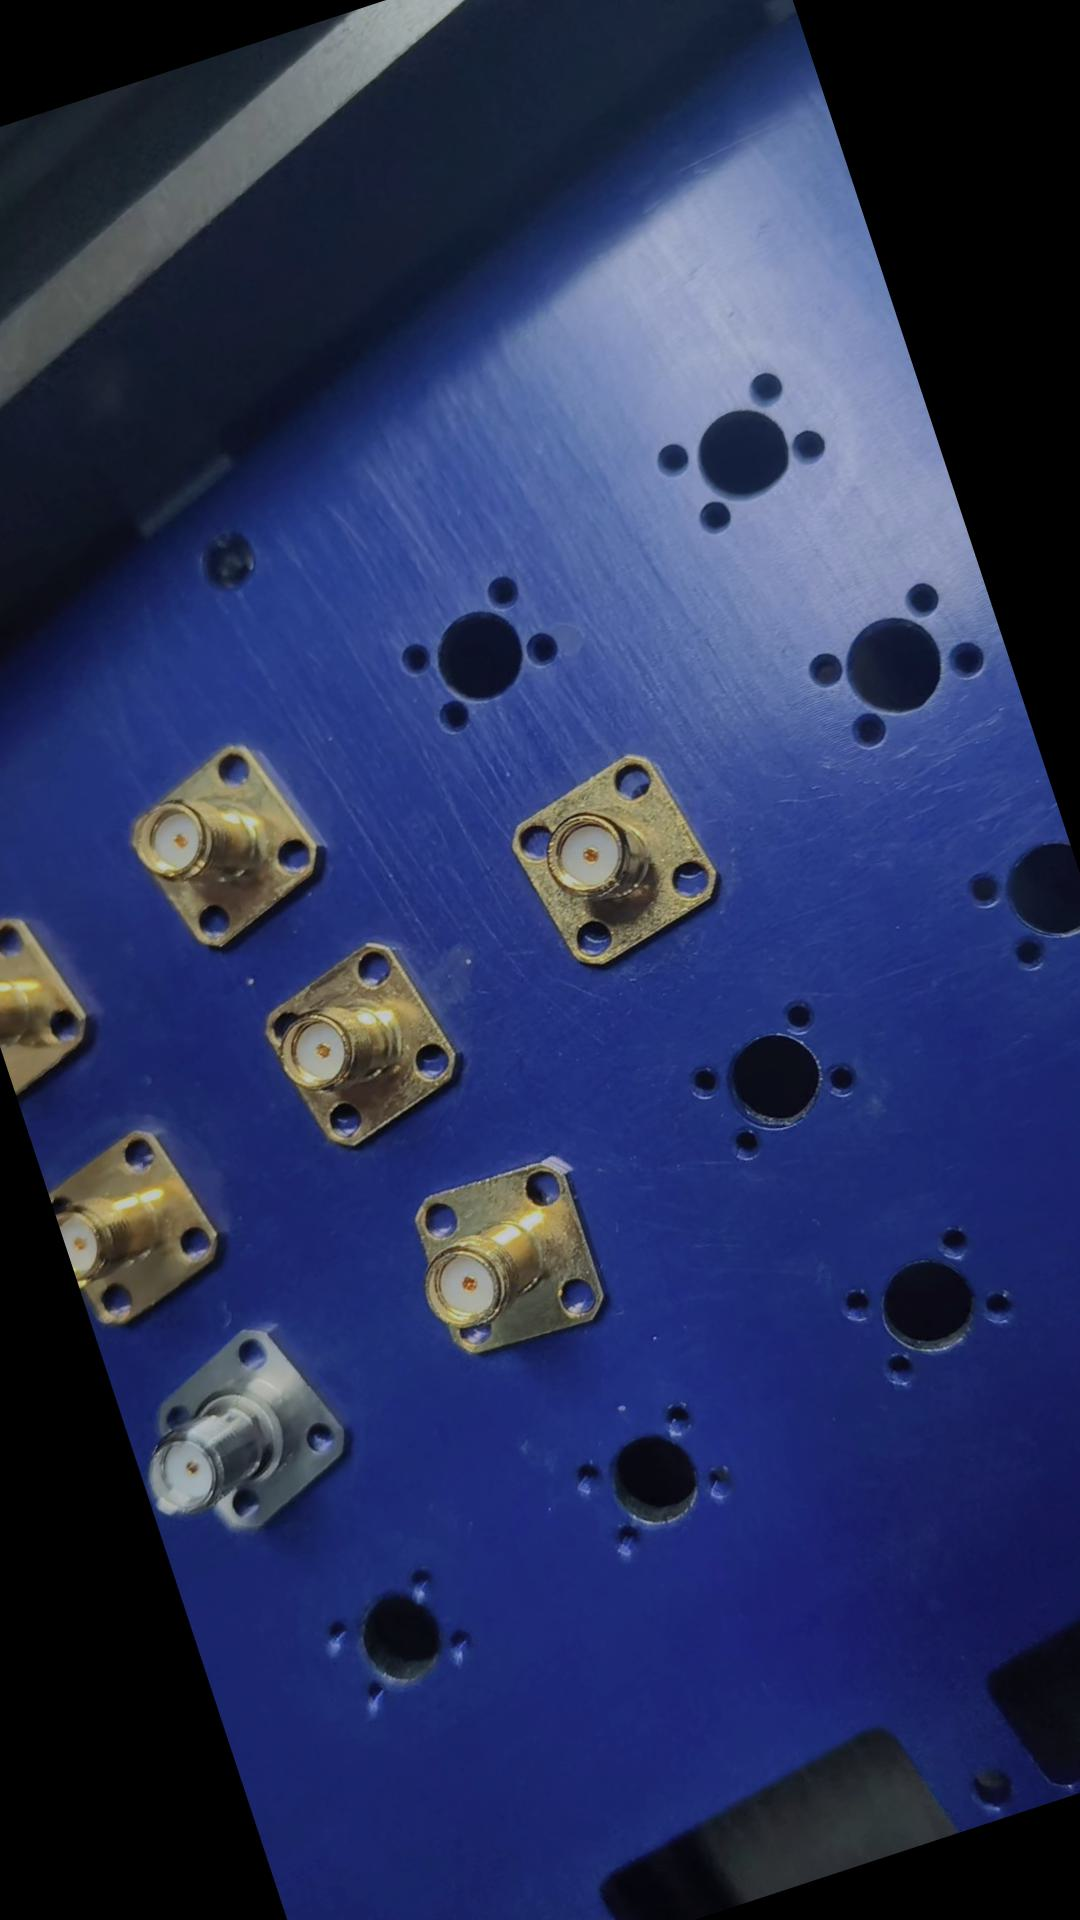SMA: (113, 1300, 375, 1560), (117, 720, 355, 977), (498, 735, 735, 982), (249, 914, 477, 1164), (400, 1142, 629, 1370), (37, 1109, 245, 1333)
